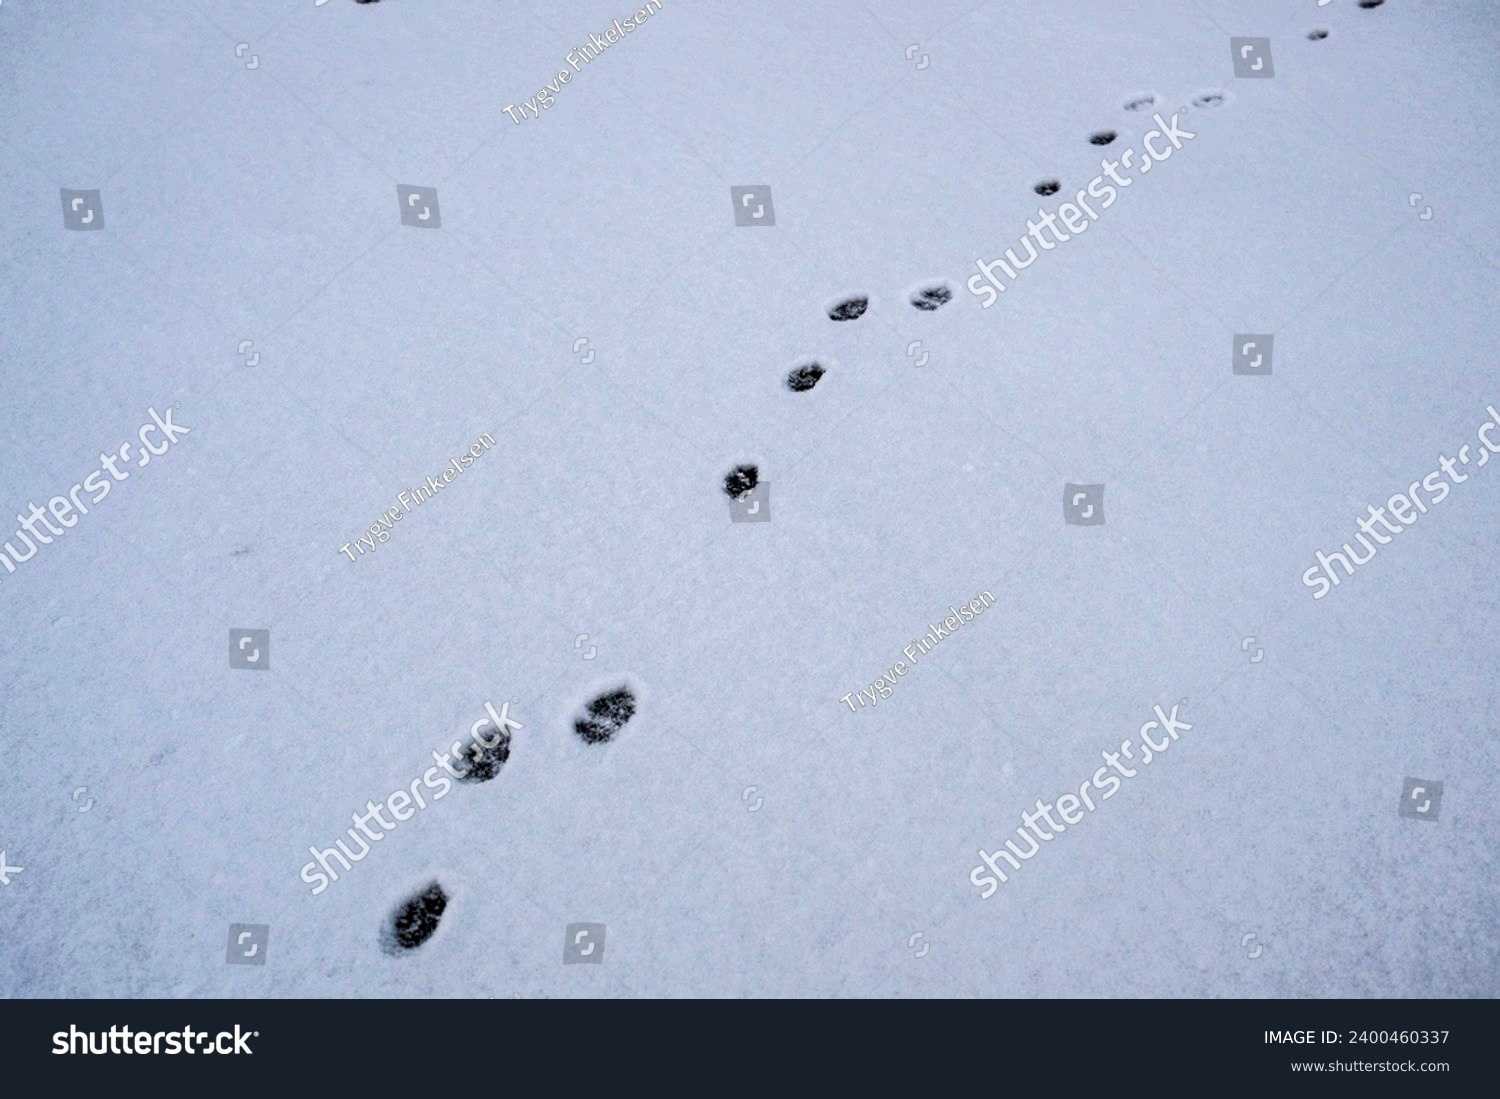rabbit: (544, 673, 653, 785)
